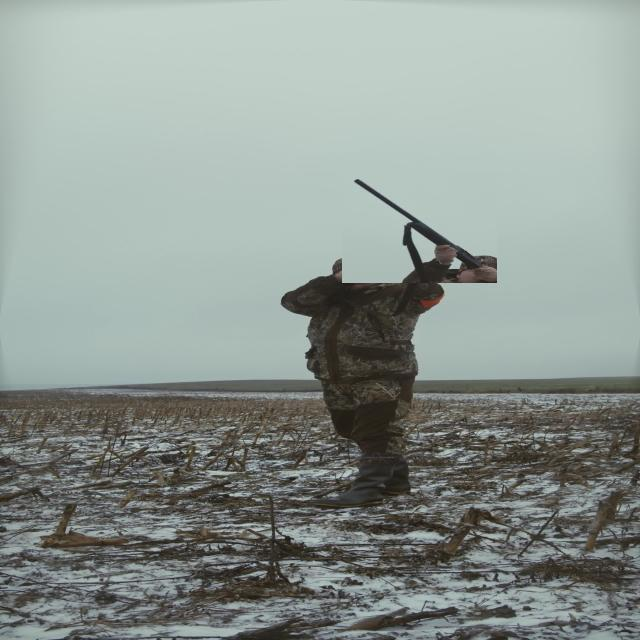poacher: (276, 236, 444, 508)
weapon: (342, 173, 497, 283)
